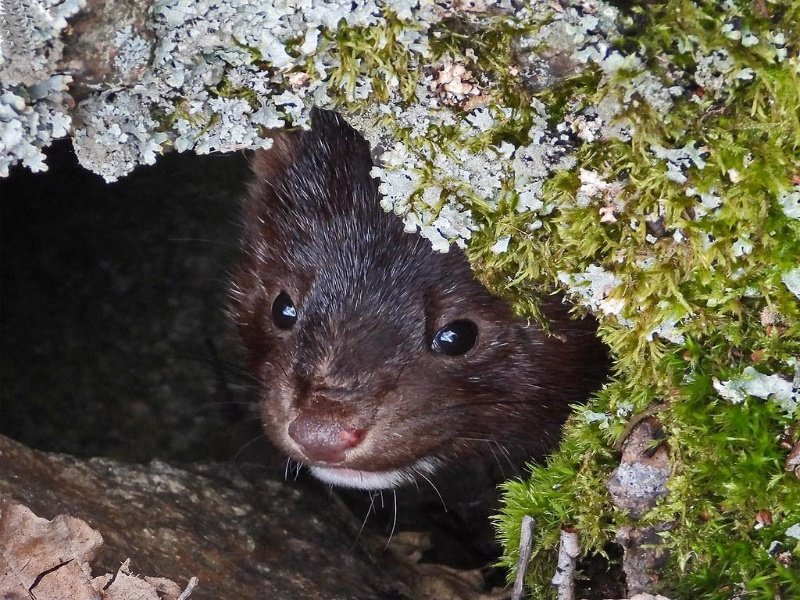minkish: (228, 115, 603, 560)
